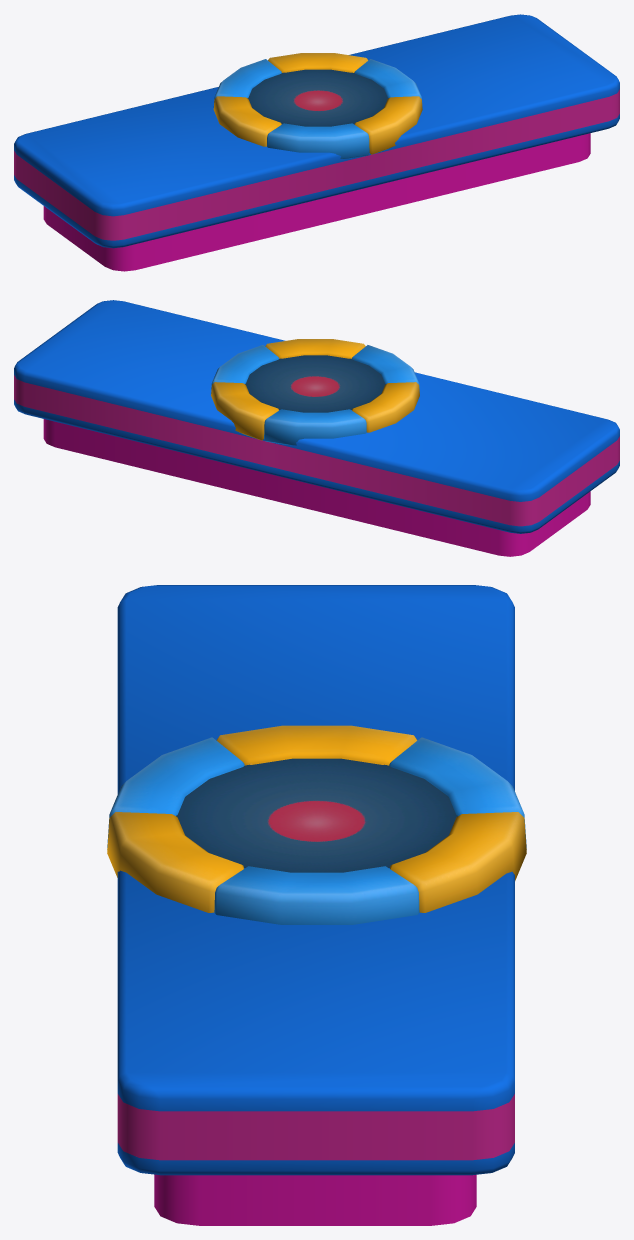
The model's file is trampolin.fbx.
The picture shows the model from 3 angles, top to bottom: view 1: azimuth 30°, elevation 25°; view 2: azimuth 150°, elevation 25°; view 3: azimuth 270°, elevation 25°; orthographic projection. The views are drawn at different scales.
Parts seen in each view (by area): view 1: Level5Visuals_Level5secondary_0.001; view 2: Level5Visuals_Level5secondary_0.001; view 3: Level5Visuals_Level5secondary_0.001.
Part boxes in pixels (left/top/right/bottom): Level5Visuals_Level5secondary_0.001: left=14, top=14, right=619, bottom=271; Level5Visuals_Level5secondary_0.001: left=14, top=300, right=619, bottom=556; Level5Visuals_Level5secondary_0.001: left=107, top=585, right=526, bottom=1225.
Size of the model in its own units: 961 by 160 by 334.
4 materials, 1 textured.
